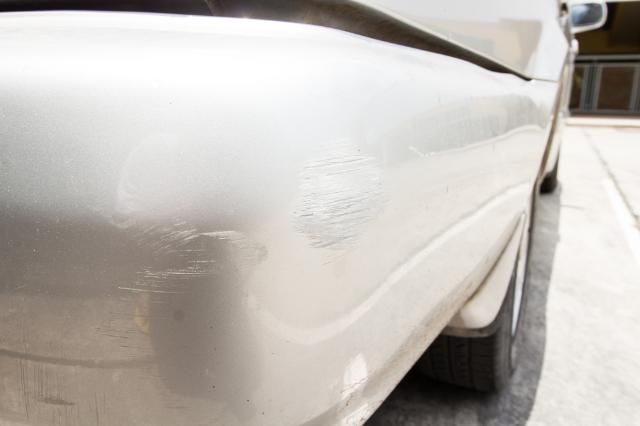scratch: (97, 193, 269, 412), (285, 132, 393, 255)
